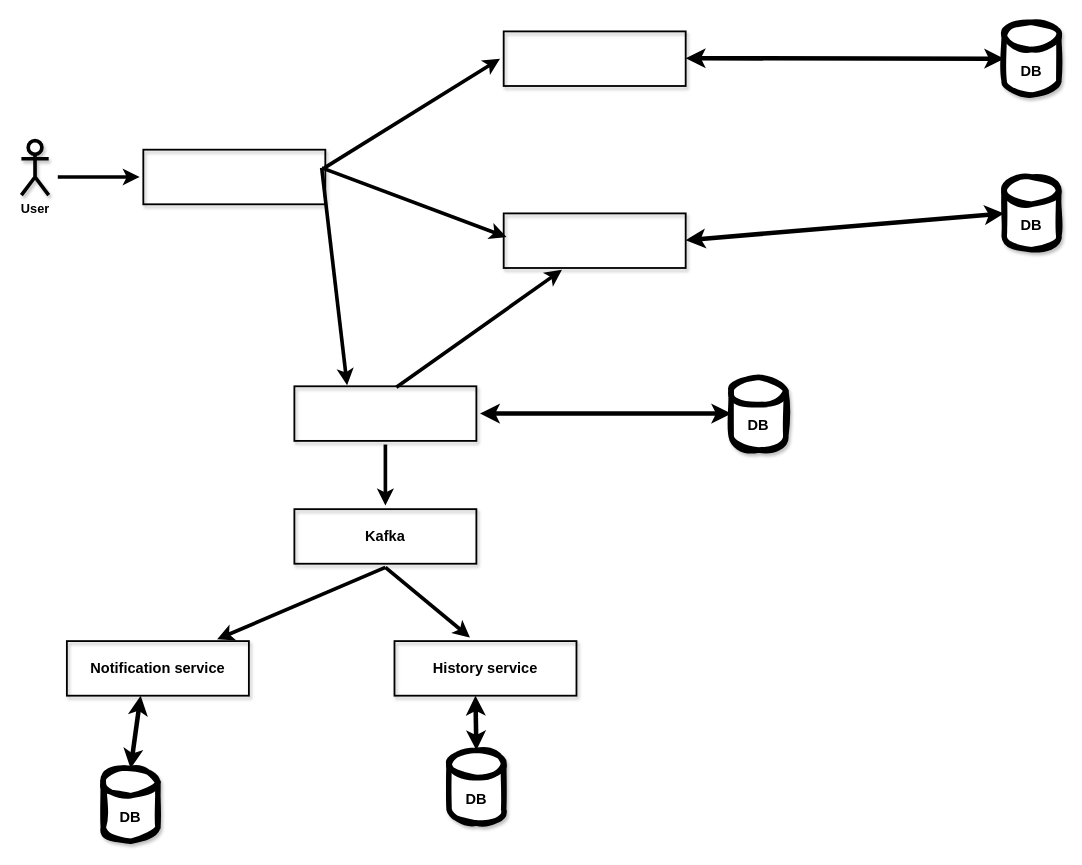
Some shapes in this 1082 by 865 pixel diagram are drawn without their labels. Each missing label, with the centre of its shape:
Gateway: point (234, 178)
Transaction service: point (385, 414)
User service: point (595, 59)
Wallet service: point (595, 241)
